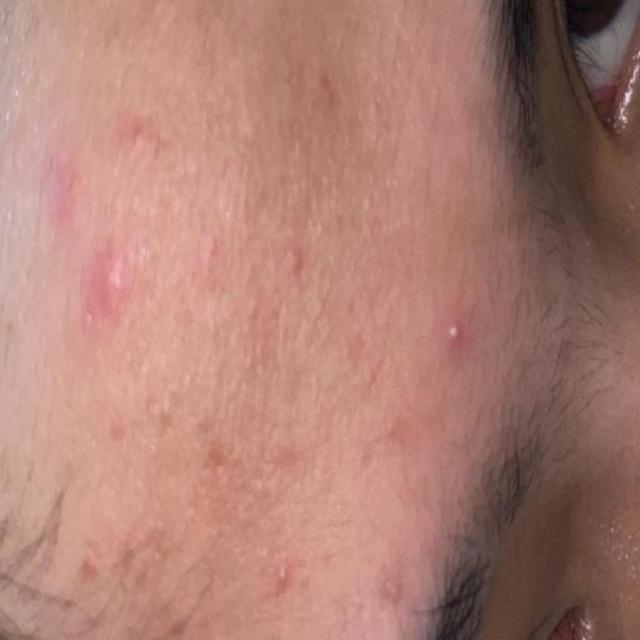papule: (24, 84, 173, 364)
pustule: (431, 302, 469, 352), (268, 546, 300, 603)
